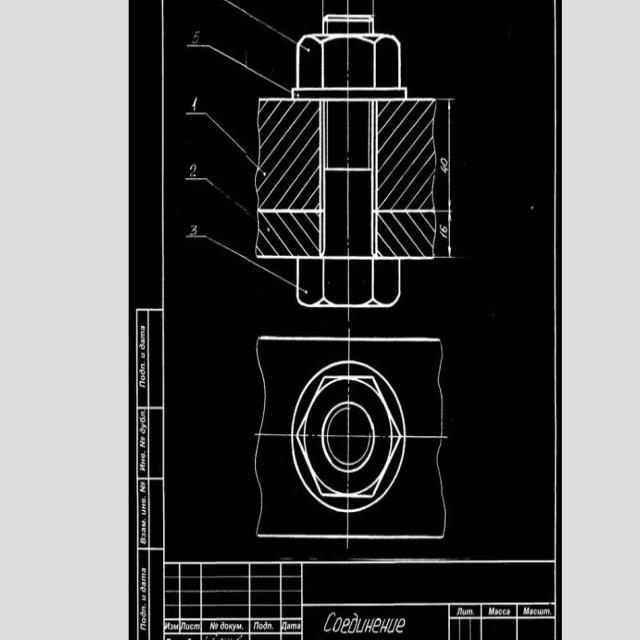marking_line: (436, 98, 455, 212), (435, 210, 454, 260)
numeric: (189, 162, 198, 178), (191, 31, 201, 44), (192, 95, 198, 112), (190, 223, 197, 237), (439, 230, 448, 240), (439, 224, 448, 233), (441, 156, 449, 166), (440, 166, 448, 173)
